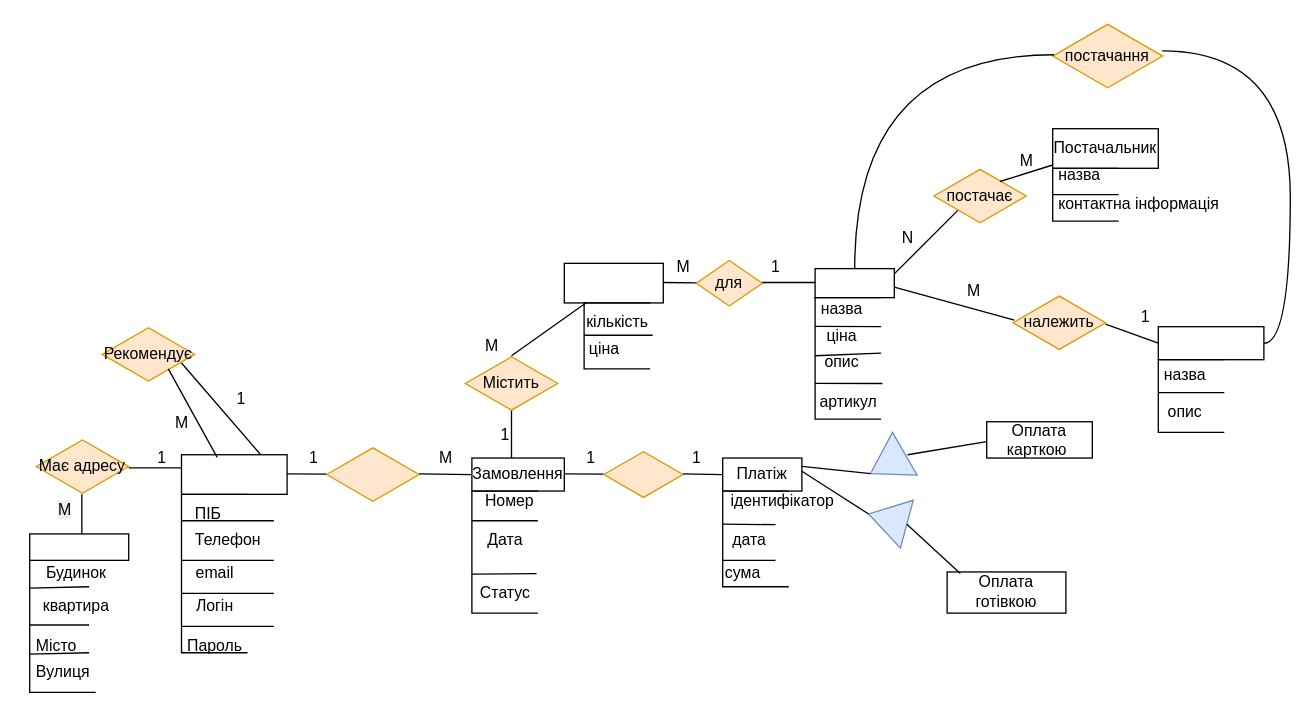
This 1313x715 diagram has some shape labels left out. Here are the shapes that lost their labels. From the top down, the box of each, then its label:
(563, 262, 663, 303): Позиція замовлення
(814, 267, 894, 298): Товар
(1157, 325, 1264, 360): категорія товару
(180, 453, 287, 494): Клієнт
(325, 446, 419, 502): Робить
(603, 449, 683, 498): має
(28, 533, 129, 560): Адреса
